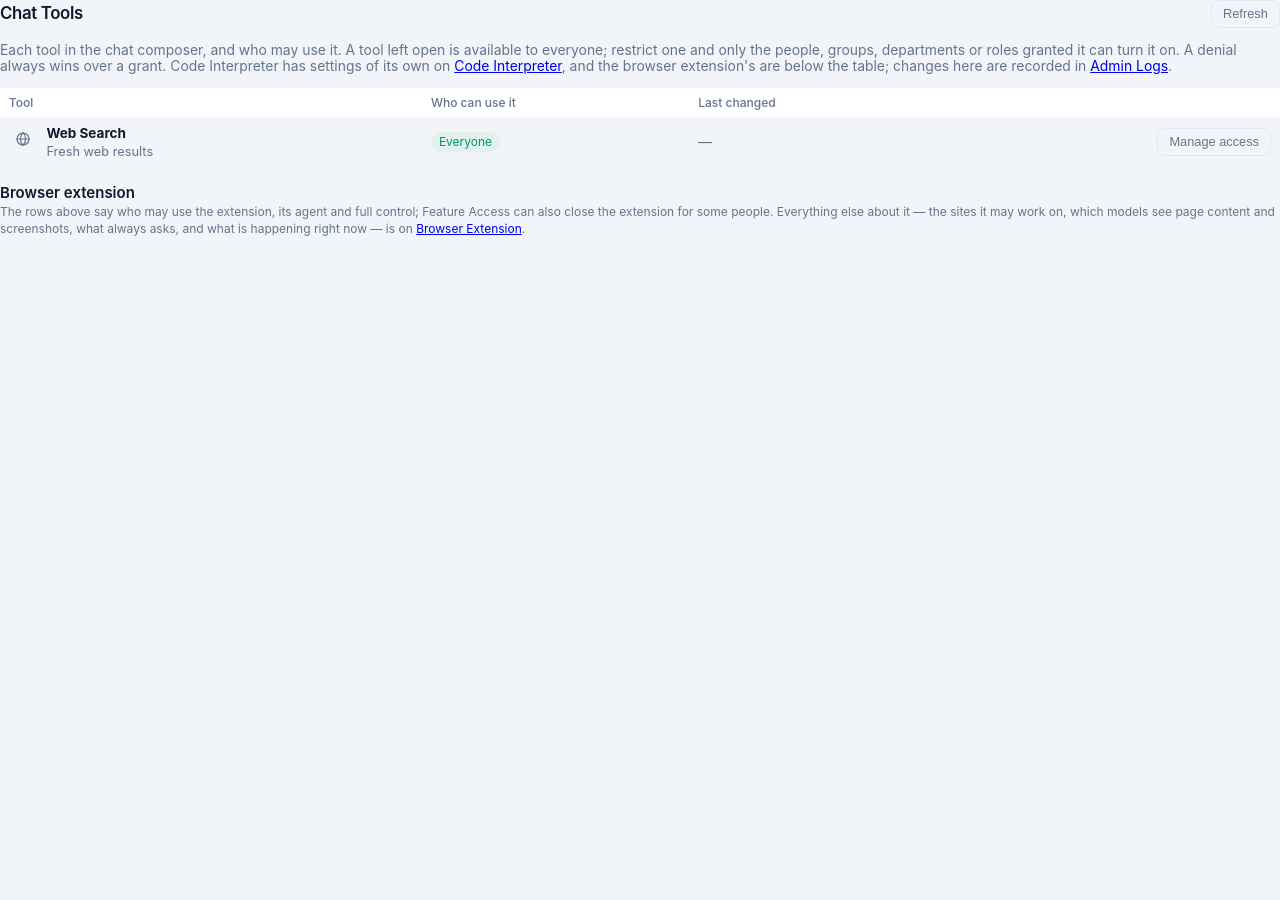
Test case: the Chat Tools page › opens that editor in a dialog wide enough for it
Click the button "Manage access": (1214, 142) 1157,128 -> 1271,156
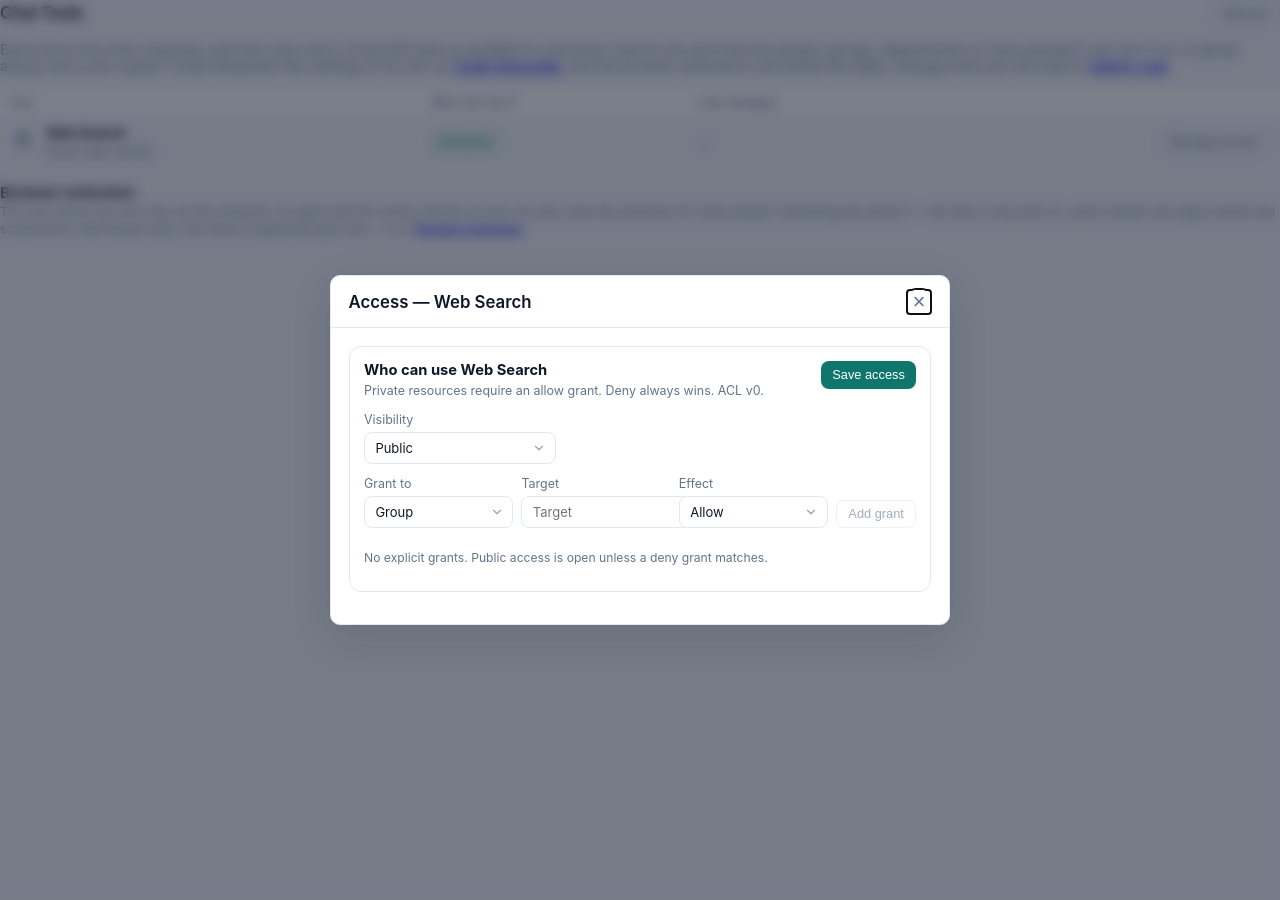
Now the dialog with class "modal-panel--md" is shown, box 330,275 -> 950,624
